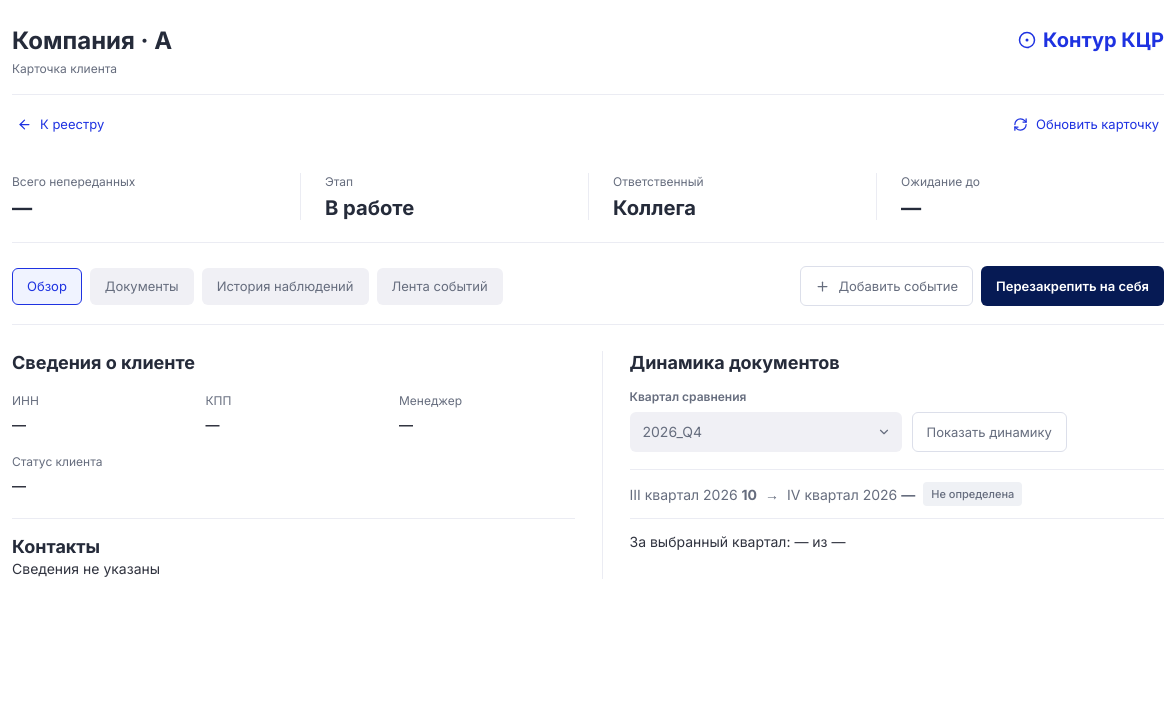
Test: immediately takes over a colleague’s client with the current assignment ID
Check: the text "Коллега" is shown, box [613, 195, 696, 220]
Click the button "Перезакрепить на себя" at coordinates (1073, 286), box [981, 266, 1164, 306]
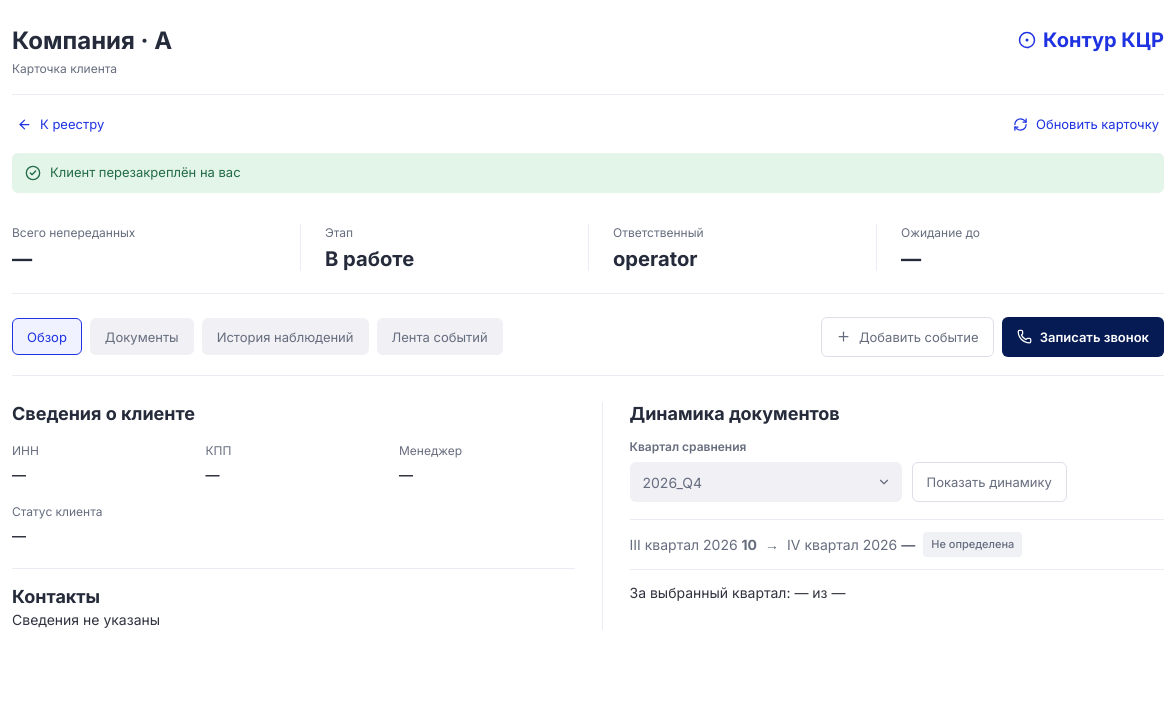
Check: the button "Записать звонок" is enabled, box [1002, 317, 1164, 357]
Check: the text "Клиент перезакреплён на вас" is shown, box [12, 153, 1164, 193]
